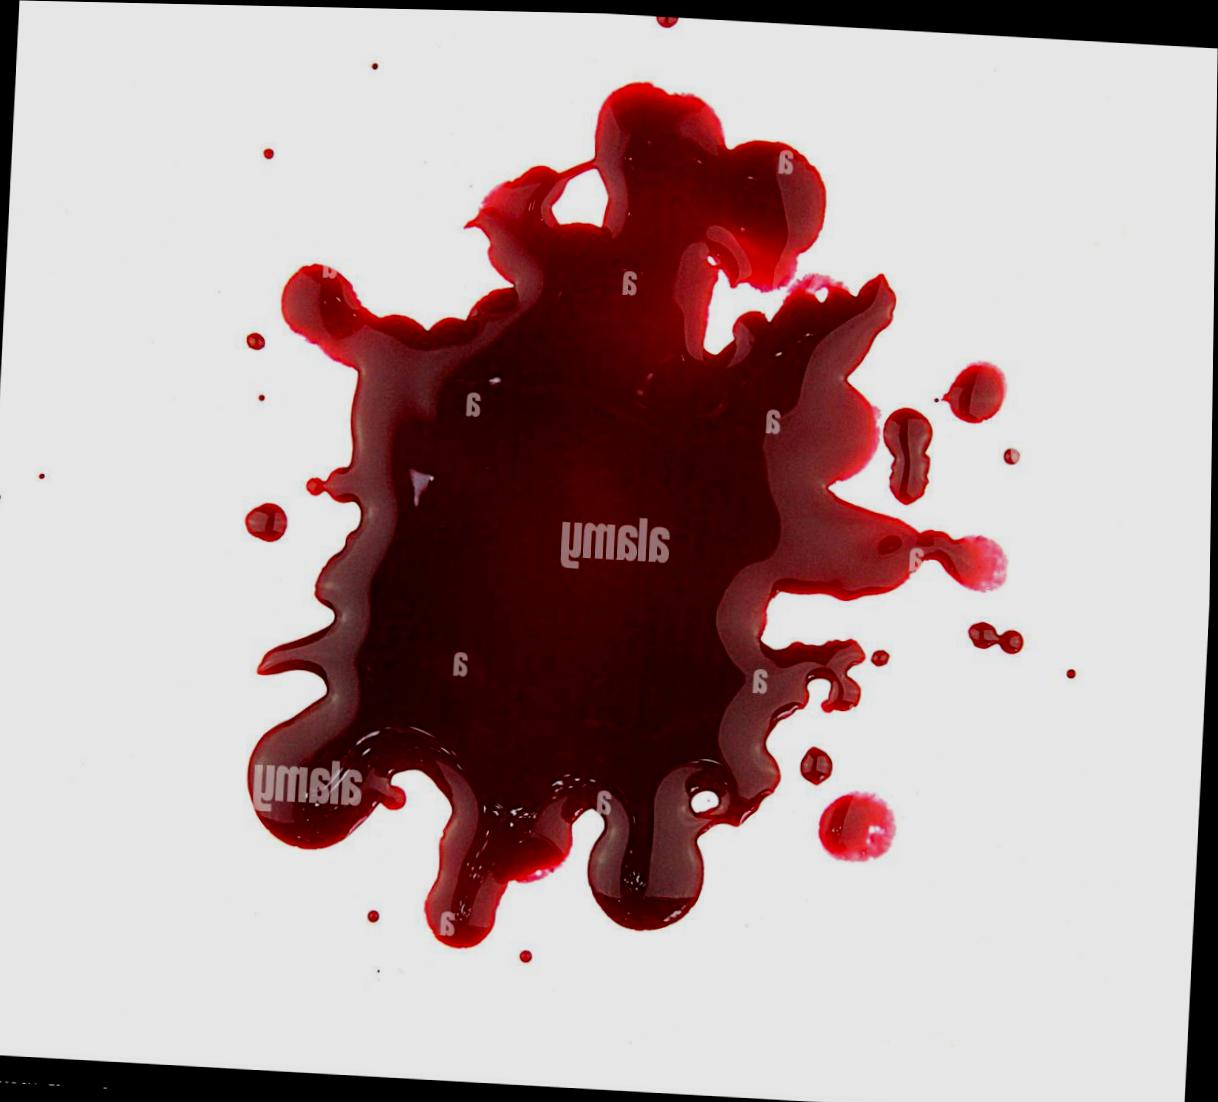Fire: (249, 77, 1009, 946), (820, 785, 899, 857), (885, 402, 935, 501), (942, 355, 1009, 418), (969, 616, 1026, 648), (246, 501, 290, 541), (802, 741, 836, 781)
